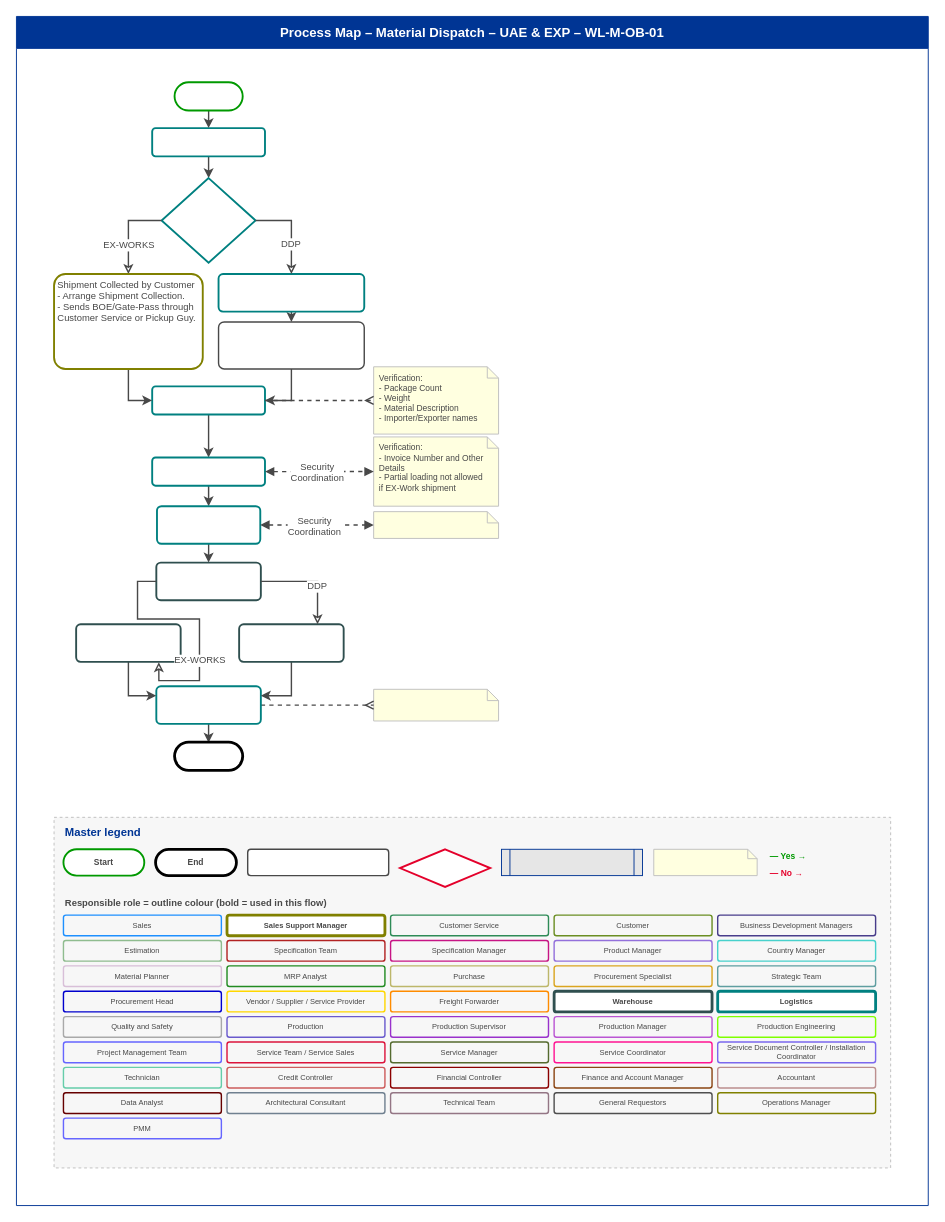
The diagram is 945 pixels wide and 1222 high, and some of its shapes have lost their labels. Here are the shapes that lost their labels. From the top down, the box of each, then its label:
(173, 81, 243, 111): DISPATCH PROCESS
(151, 127, 265, 157): Completion of Shipping document
(160, 177, 256, 263): Type
(217, 273, 365, 312): Arrange Shipment with Contracted Forwarder
(217, 321, 365, 369): Sends BOE/Gate-Pass through e-mail. Arrange Shipment Collection.
(151, 385, 265, 415): Confirm Collection details
(151, 456, 265, 486): Freight forwards Invoice verification
(156, 505, 261, 544): Issue and Share PGI, Delivery Note & Warehouse Set
(373, 511, 499, 538): - PGI : Post Goods Issue
(155, 561, 261, 601): Material Loaded as per Warehouse set document
(75, 623, 181, 662): Acknowledgement on delivery Note by Receiver
(238, 623, 344, 662): Delivery Acknowledged after material delivered to Customer
(155, 685, 261, 724): Update Details with all documents copy to SAP
(373, 688, 499, 721): Hard copies are stored for 5 years
(173, 740, 244, 771): EXIT
(247, 848, 389, 876): Activity (outline = role)
(399, 848, 491, 887): Decision
(501, 848, 642, 876): Linked process (Ref ID)
(653, 848, 757, 876): Note / checklist
